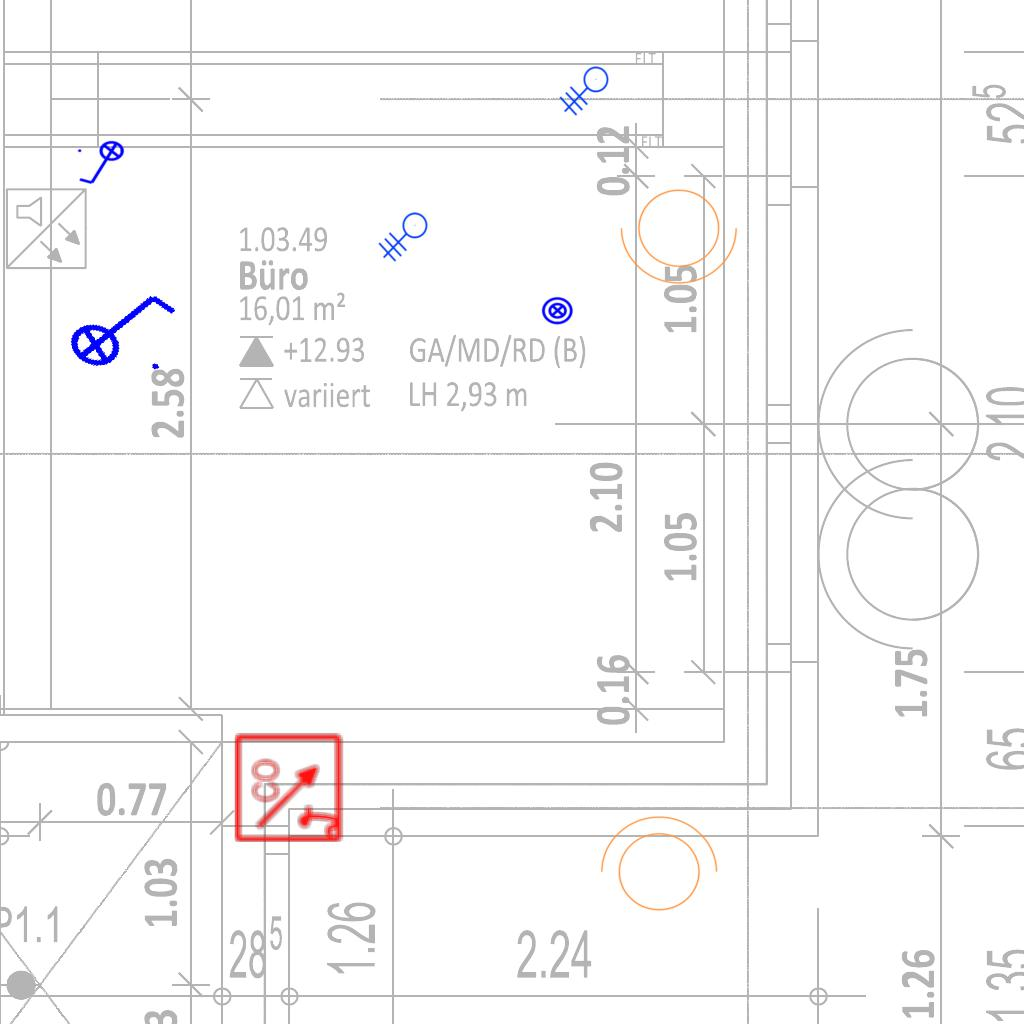Ausschalter_beleuchtet: (51, 262, 189, 390), (75, 140, 131, 188)
Elektroanschluss_allgemein_400V_Geraeteanschlussdose_400V: (559, 66, 617, 122), (378, 212, 436, 268)
ROA_Rauchmelder_optisch_mit_Signalgeber_(Sockelsirene): (233, 731, 346, 844)
Scheinwerfer_fuer_Alarmbeleuchtung: (616, 177, 748, 289), (590, 811, 722, 923)
Taster_beleuchtet: (541, 294, 574, 327)
